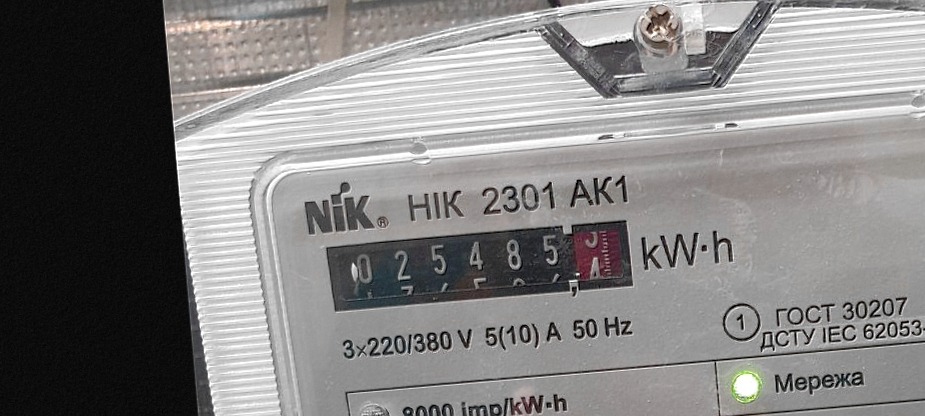0: (352, 250, 376, 286)
2: (391, 247, 414, 283)
4: (463, 237, 487, 273), (584, 253, 605, 283)
5: (538, 231, 562, 270), (426, 240, 449, 277)
8: (502, 234, 525, 274)
screen: (316, 211, 643, 324)
